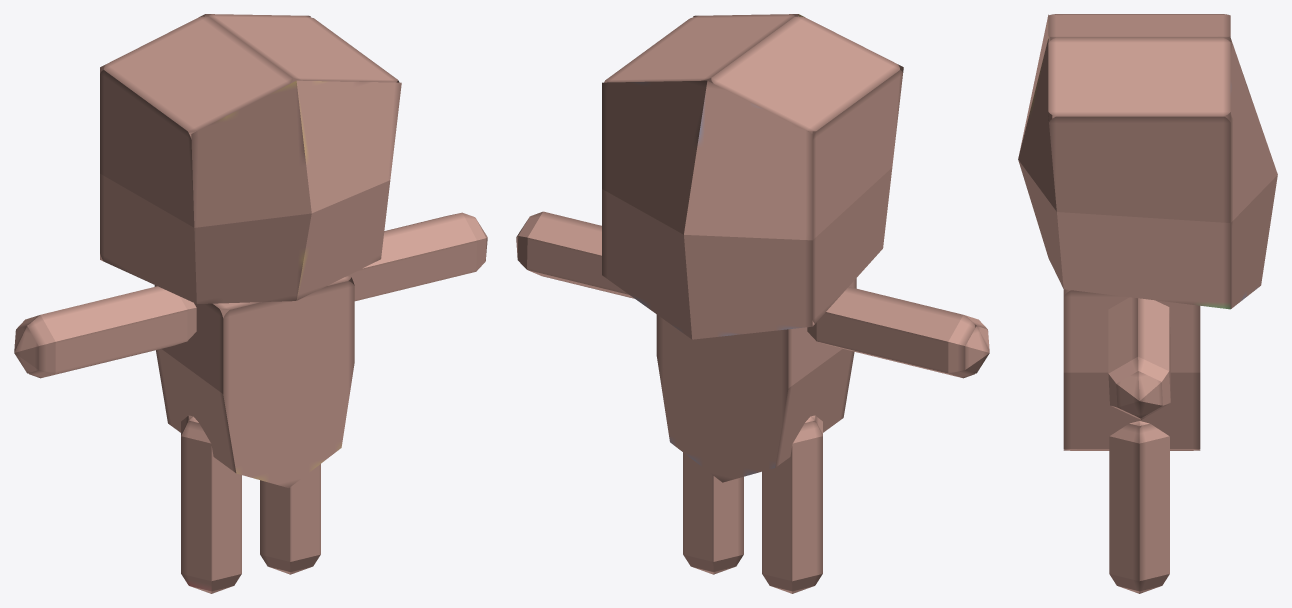
File: Adventurer.fbx
The picture shows the model from 3 angles, left to right: view 1: azimuth 30°, elevation 25°; view 2: azimuth 150°, elevation 25°; view 3: azimuth 270°, elevation 25°; orthographic projection.
Parts seen in each view (by area): view 1: head, body, l_arm, l_leg, r_arm, r_leg; view 2: head, body, l_arm, l_leg, r_leg, r_arm; view 3: head, body, r_leg, r_arm.
Part boxes in pixels (left/top/right/bottom): head: left=100, top=14, right=401, bottom=303; body: left=154, top=275, right=354, bottom=487; l_arm: left=14, top=286, right=196, bottom=378; l_leg: left=181, top=415, right=241, bottom=593; r_arm: left=349, top=212, right=487, bottom=301; r_leg: left=260, top=464, right=320, bottom=574; head: left=602, top=14, right=903, bottom=339; body: left=656, top=278, right=856, bottom=482; l_arm: left=807, top=287, right=989, bottom=378; l_leg: left=762, top=415, right=822, bottom=593; r_leg: left=683, top=452, right=743, bottom=574; r_arm: left=516, top=211, right=634, bottom=298; head: left=1018, top=14, right=1277, bottom=309; body: left=1063, top=289, right=1200, bottom=450; r_leg: left=1109, top=421, right=1169, bottom=593; r_arm: left=1108, top=297, right=1170, bottom=419.
Bounding box in the file's own units: 112 × 122 × 53.45.
1 material, 1 textured.
